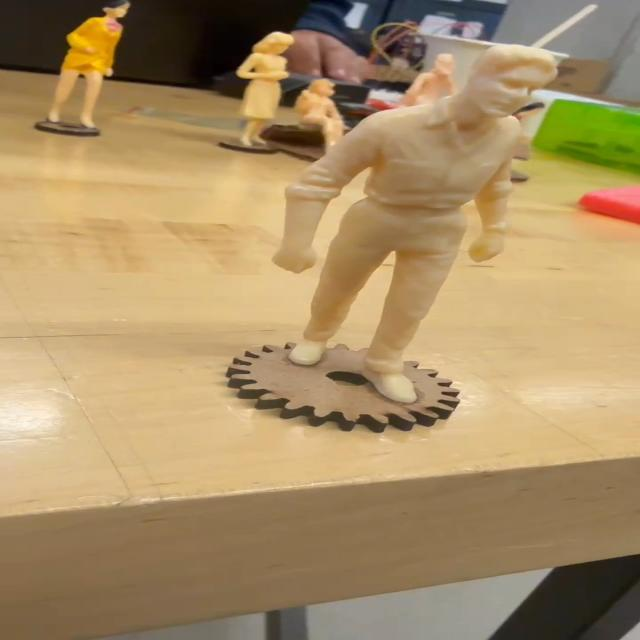Unauthorized: (271, 44, 542, 410)
